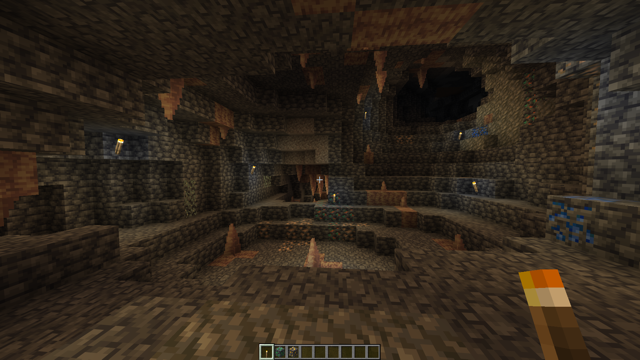copper: (521, 74, 537, 125), (314, 203, 356, 222), (326, 223, 341, 241)
iron: (279, 217, 311, 256), (342, 223, 357, 242), (257, 220, 272, 237), (393, 132, 414, 144)
lapis: (541, 190, 615, 253), (470, 127, 489, 139)
